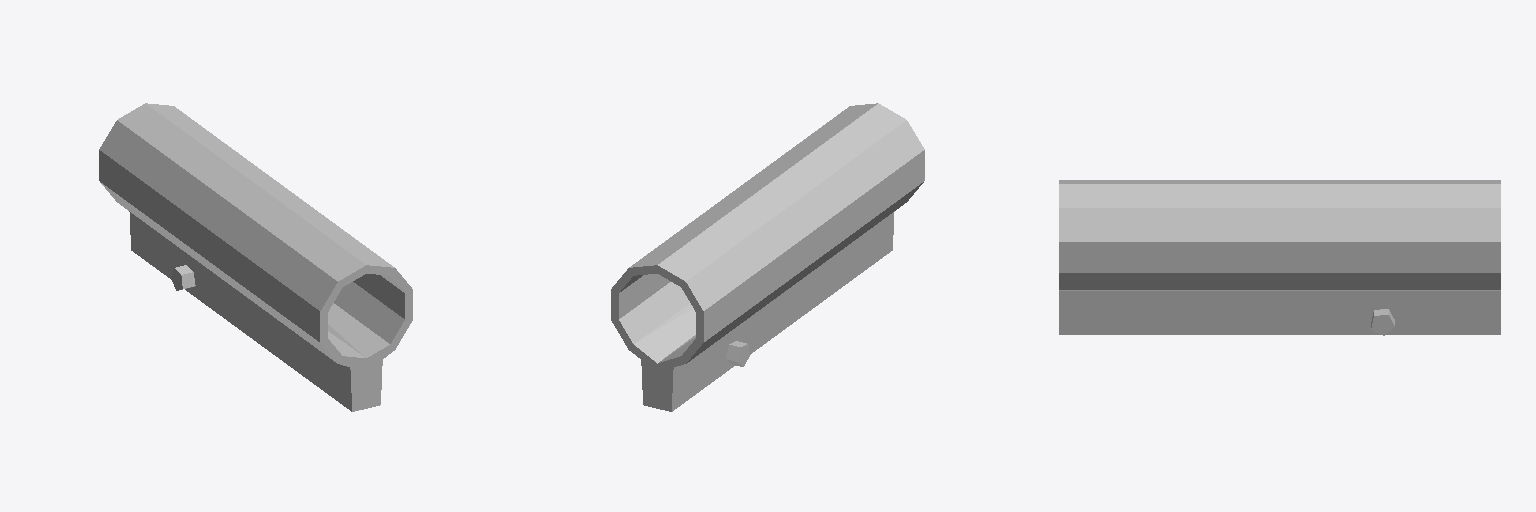
File: Barrel.obj
3 renders of one model, left to right at view 1: azimuth 30°, elevation 25°; view 2: azimuth 150°, elevation 25°; view 3: azimuth 270°, elevation 25°, orthographic.
Visible parts, largest first — view 1: Barrel; view 2: Barrel; view 3: Barrel.
Boxes of the visible parts, <box> form: Barrel: <box>99,103,412,411</box>; Barrel: <box>611,103,924,411</box>; Barrel: <box>1059,180,1500,335</box>.
Size of the model in its own units: 0.0215 by 0.0319 by 0.0891.